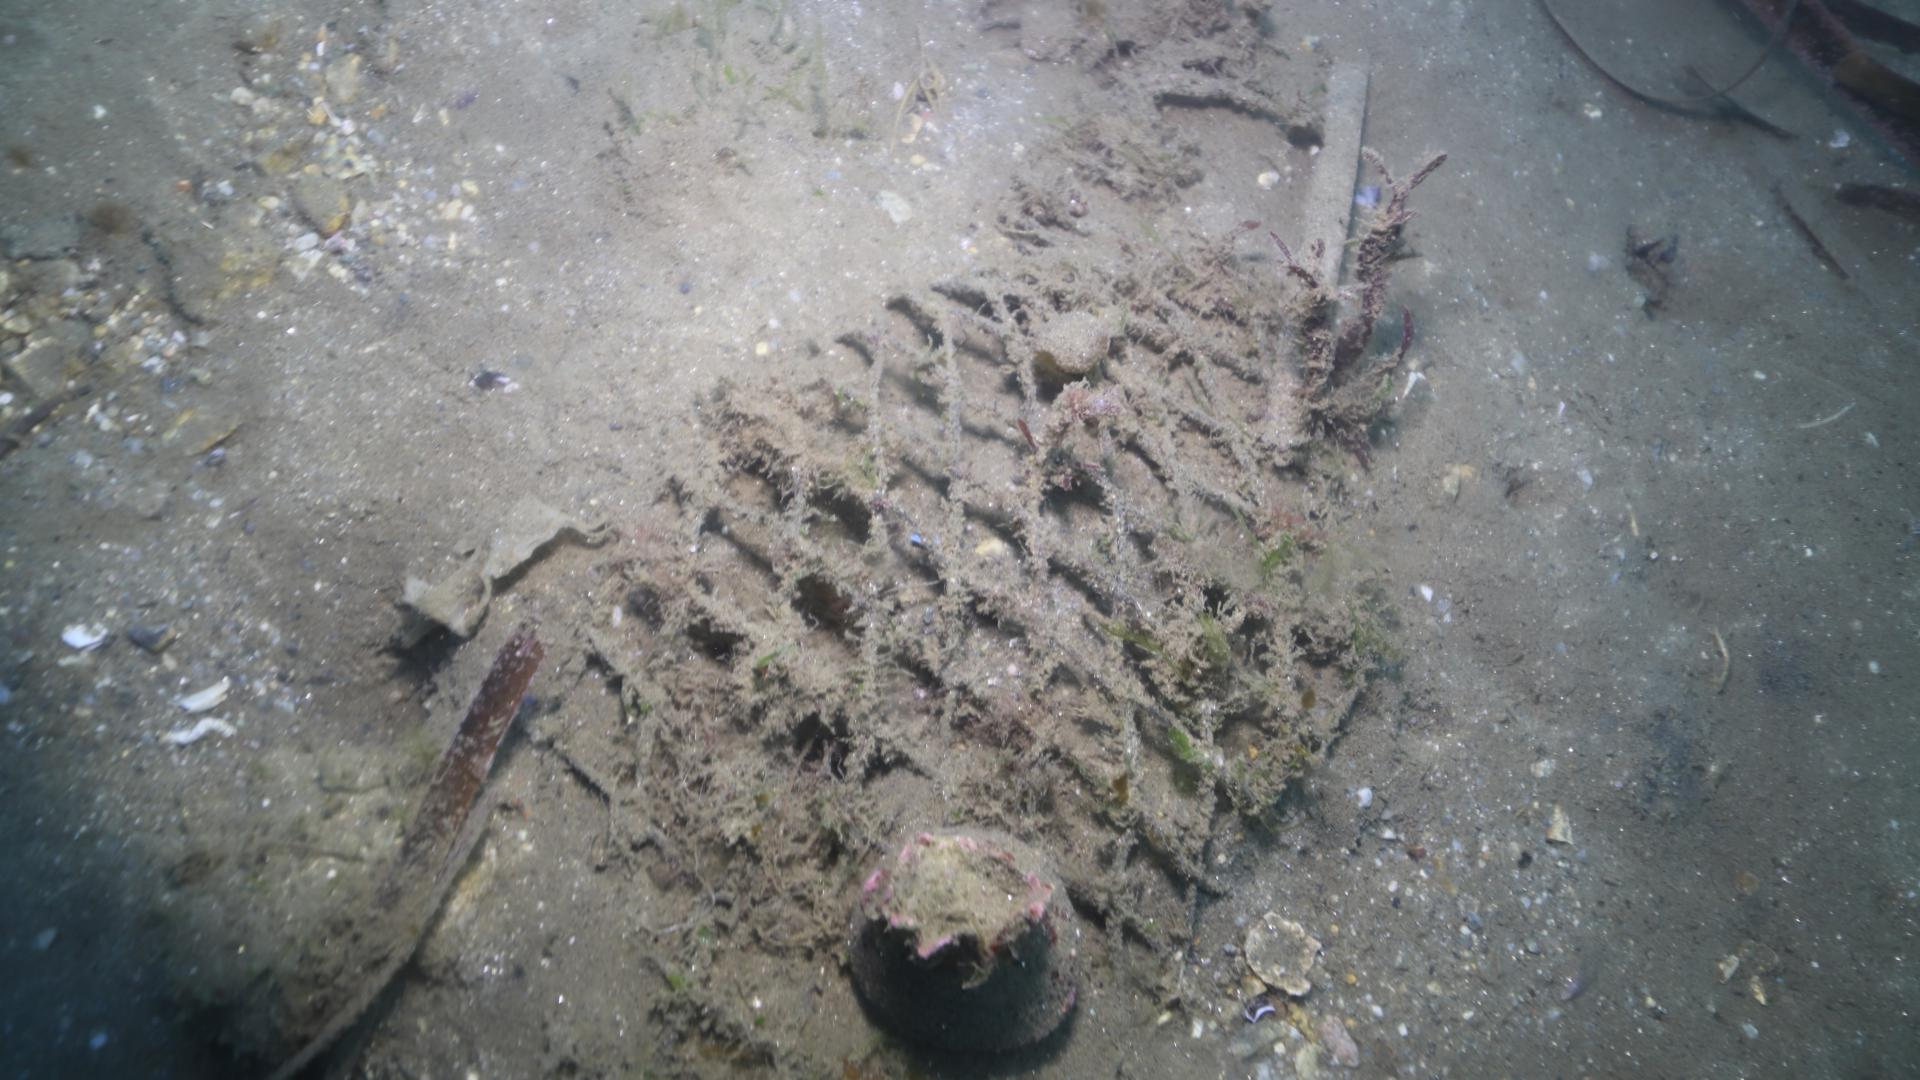fish net: (589, 256, 1290, 961)
